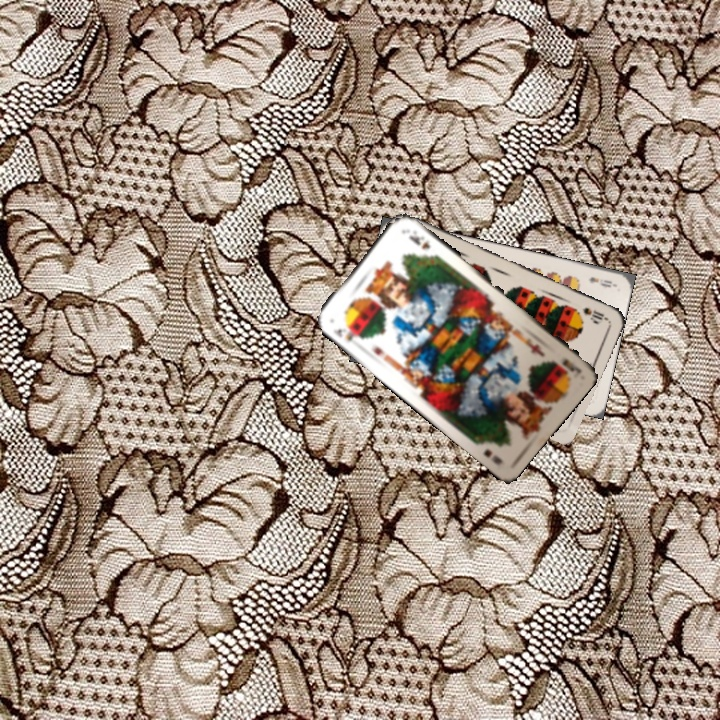E9: (584, 273, 617, 290)
S10: (578, 303, 611, 325)
SK: (329, 321, 365, 344), (557, 354, 584, 377)
